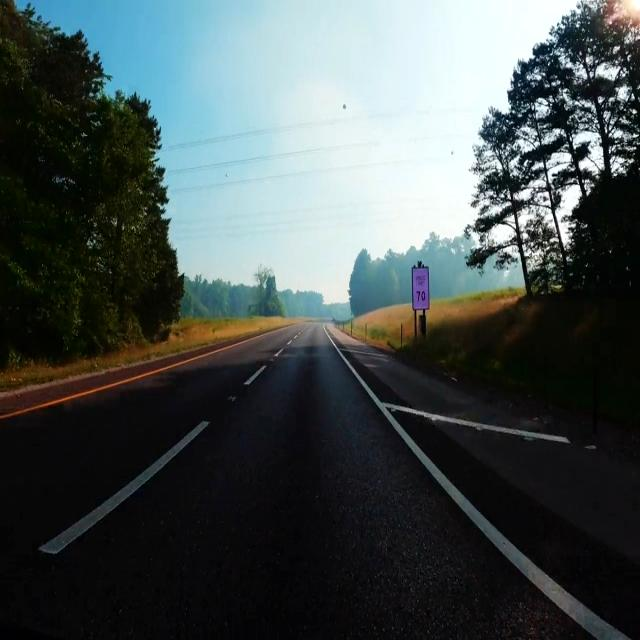lane: (324, 327, 628, 639), (40, 420, 209, 553), (384, 402, 570, 443), (244, 364, 266, 383)
road: (0, 324, 587, 637)
